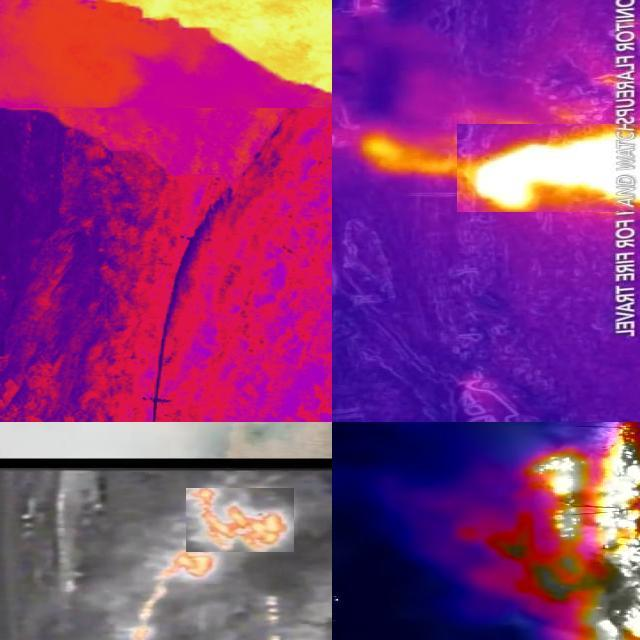fire: (503, 423, 640, 640), (104, 1, 333, 95), (474, 125, 640, 213), (126, 554, 215, 640), (186, 489, 294, 553)
